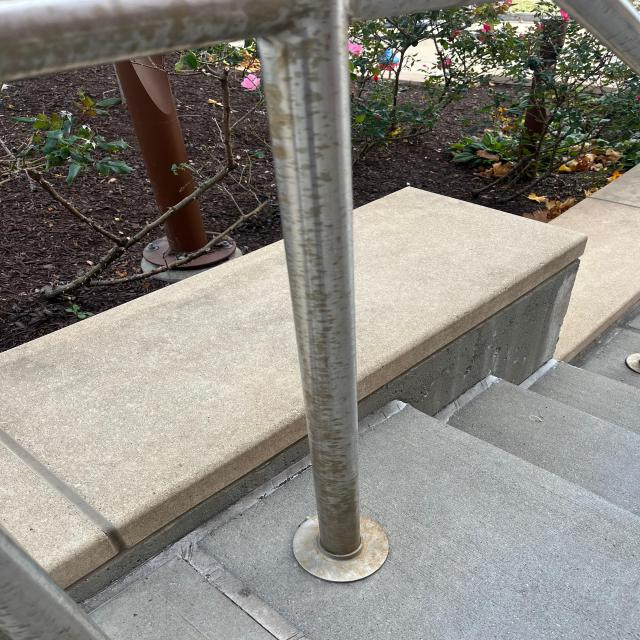Uniform Corrosion: (1, 1, 390, 580)
